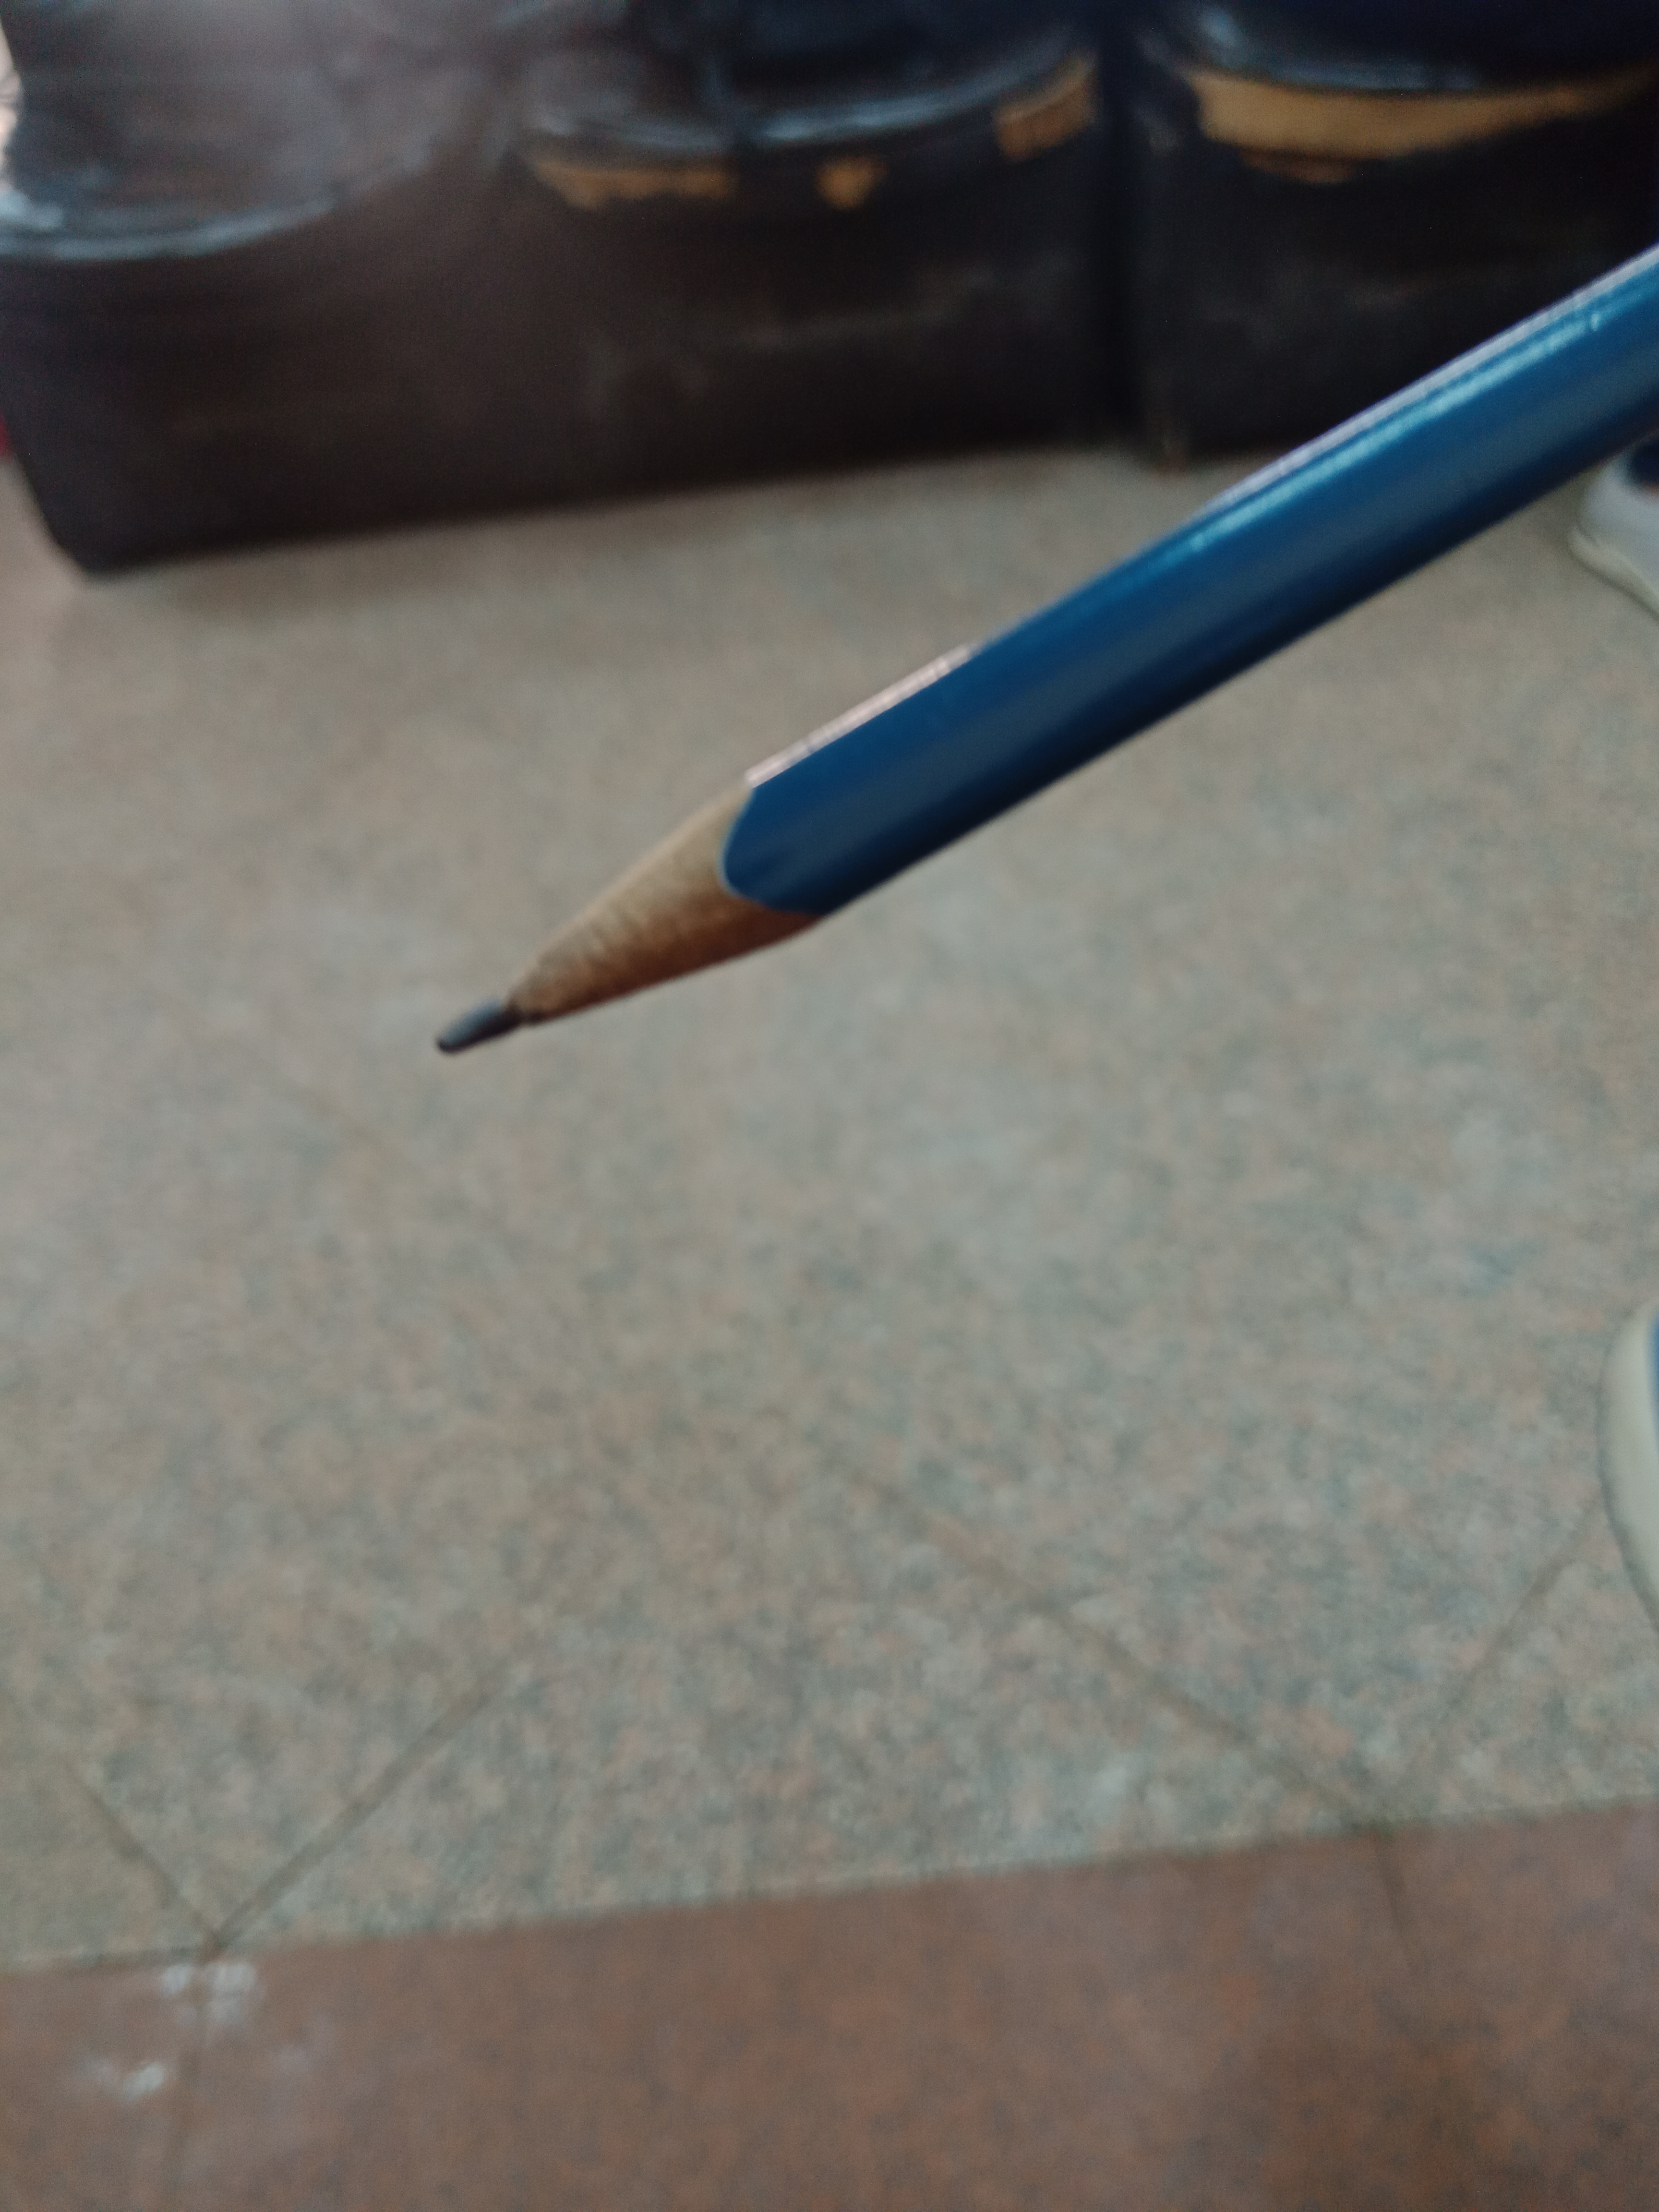pen_tip: (352, 747, 945, 1099)
